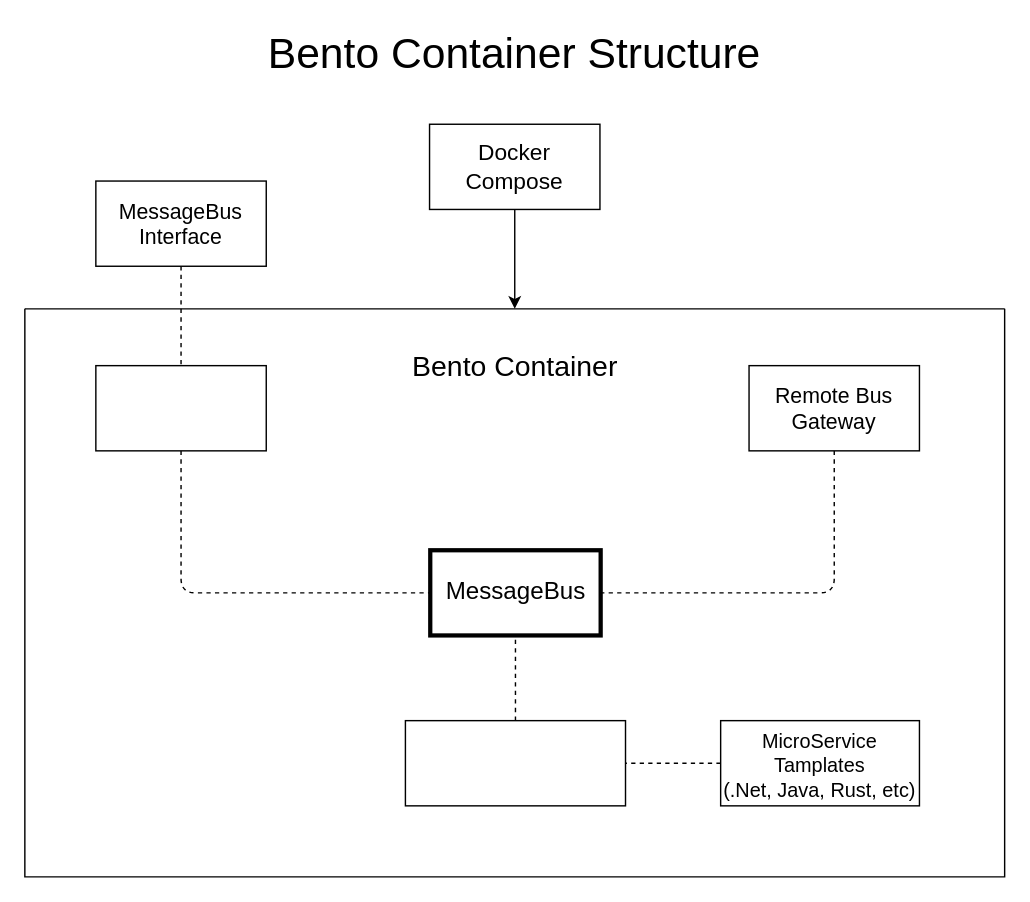
Image size: 1030x902. Some labels were removed from this diagram. The shapes that lost their labels are listed below. From the top down, each one's box as (x1, y1, x2, y2) in pixels, then its label:
(94, 364, 266, 451): Interface Gateway
(404, 719, 626, 806): Bus Interactor Libraries (.Net, Java, Rust, etc)
